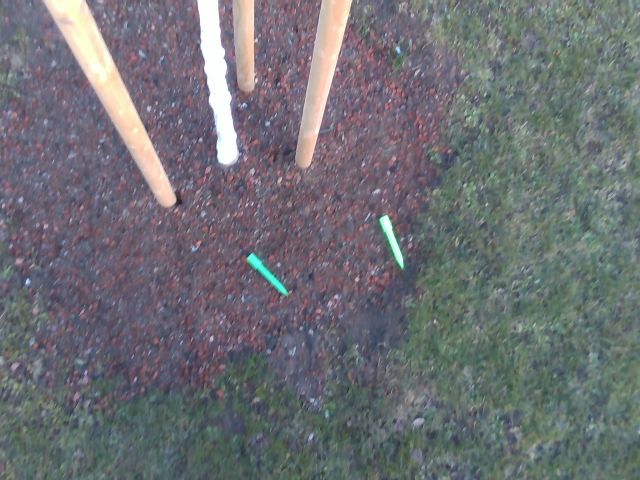Probe: (243, 247, 293, 301), (377, 211, 409, 273)
